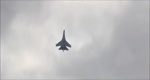maybay_muctieu: (55, 29, 72, 52)
